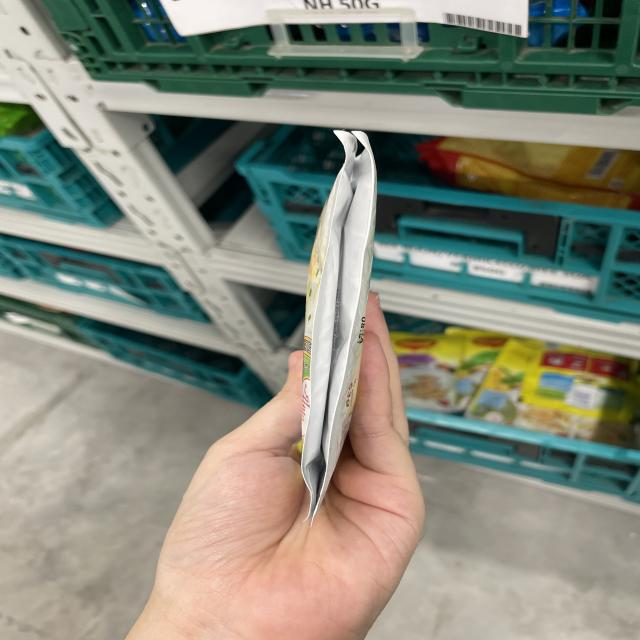object_name: (311, 129, 364, 508)
